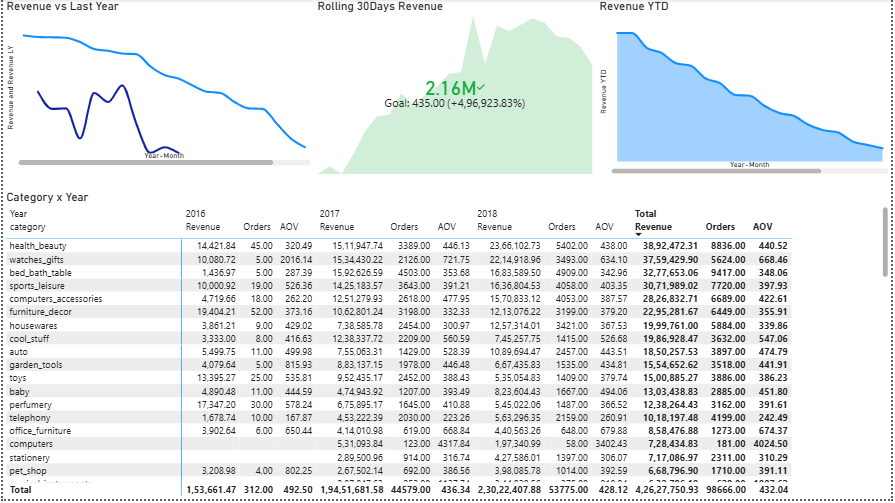

This screenshot's page, from the dashboard's own definition file:
{"tool":"powerbi","page":{"name":"Sales Trends","canvas":[1280,720],"ordinal":1},"visuals":[{"type":"lineChart","title":"Revenue vs Last Year","fields":{"Category":["DimDate.Year-Month"],"Y":["public bi_fact_sales.Revenue","DimDate.Revenue LY"]},"box":[0,0,447.7,244.6],"z":0},{"type":"kpi","title":"Rolling 30Days Revenue","fields":{"TrendLine":["DimDate.Year-Month"],"Goal":["public bi_fact_sales.Revenue"],"Indicator":["DimDate.Rolling 30D Revenue"]},"box":[447.7,0,406.2,256.9],"z":1000},{"type":"areaChart","title":"Revenue YTD","fields":{"Category":["DimDate.Year-Month"],"Y":["DimDate.Revenue YTD"]},"box":[853.8,0,426.2,256.9],"z":2000},{"type":"pivotTable","title":"Category x Year","fields":{"Values":["public bi_fact_sales.Revenue","public bi_fact_sales.Orders","public bi_fact_sales.AOV"],"Rows":["public bi_fact_sales.category"],"Columns":["DimDate.Year"]},"box":[0,275.4,1280,444.6],"z":3000}]}

Visuals, with their boxes in screenshot pixels (x1, y1, x2, y2), scaled from the page's 1280x720 canvas onto the 895x503 screenshot:
"Revenue vs Last Year" lineChart: box(0, 0, 313, 171)
"Rolling 30Days Revenue" kpi: box(313, 0, 597, 179)
"Revenue YTD" areaChart: box(597, 0, 894, 179)
"Category x Year" pivotTable: box(0, 192, 894, 502)
